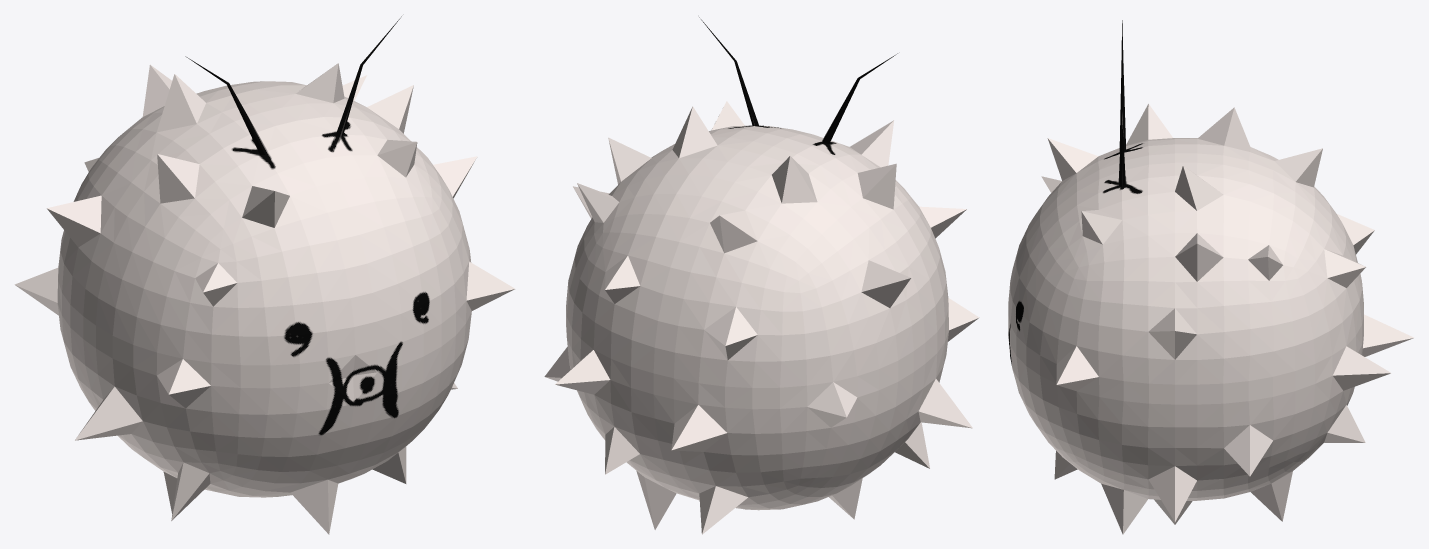
Rendered from ShootingEnemy.obj.
The picture shows the model from 3 angles, left to right: view 1: azimuth 30°, elevation 25°; view 2: azimuth 150°, elevation 25°; view 3: azimuth 270°, elevation 25°; orthographic projection. The views are drawn at different scales.
Parts seen in each view (by area): view 1: 立方体; view 2: 立方体; view 3: 立方体.
Boxes of the visible parts, bbox=[...] form: 立方体: bbox=[14, 16, 514, 534]; 立方体: bbox=[544, 17, 979, 534]; 立方体: bbox=[1008, 20, 1414, 534].
Bounding box in the file's own units: 2.38 × 2.76 × 2.28.
Materials: 1 (1 with a texture image).
